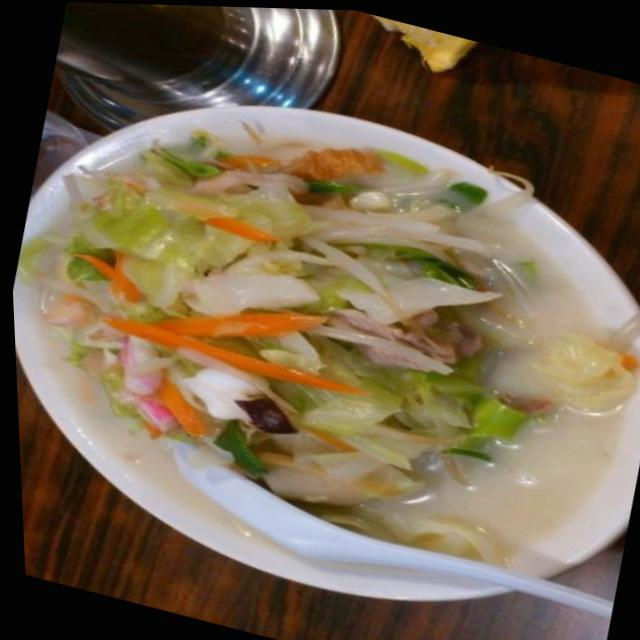炸货点心: (0, 0, 640, 633)
熟制海鲜: (0, 0, 640, 633)
